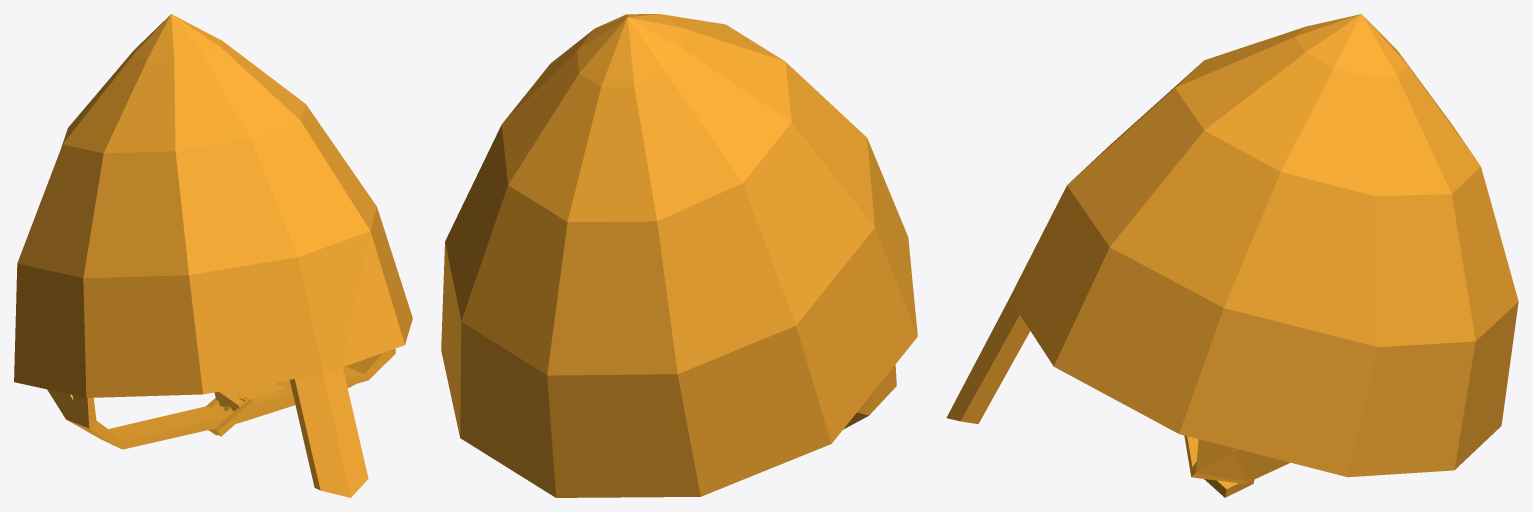
The model's file is SM_Helmet_Nasal_Placed.fbx.
The picture shows the model from 3 angles, left to right: view 1: azimuth 30°, elevation 25°; view 2: azimuth 150°, elevation 25°; view 3: azimuth 270°, elevation 25°; orthographic projection. The views are drawn at different scales.
Parts seen in each view (by area): view 1: helmet-nasal-placed; view 2: helmet-nasal-placed; view 3: helmet-nasal-placed.
Boxes of the visible parts, left/top/right/bottom form: helmet-nasal-placed: left=14, top=14, right=412, bottom=497; helmet-nasal-placed: left=441, top=14, right=917, bottom=497; helmet-nasal-placed: left=946, top=14, right=1518, bottom=497.
Bounding box in the file's own units: 0.2106 × 0.225 × 0.2778.
